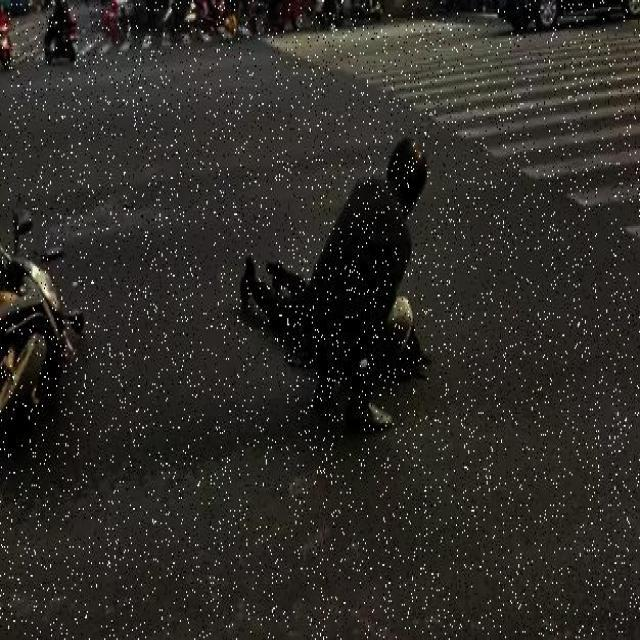fall: (236, 254, 417, 362)
